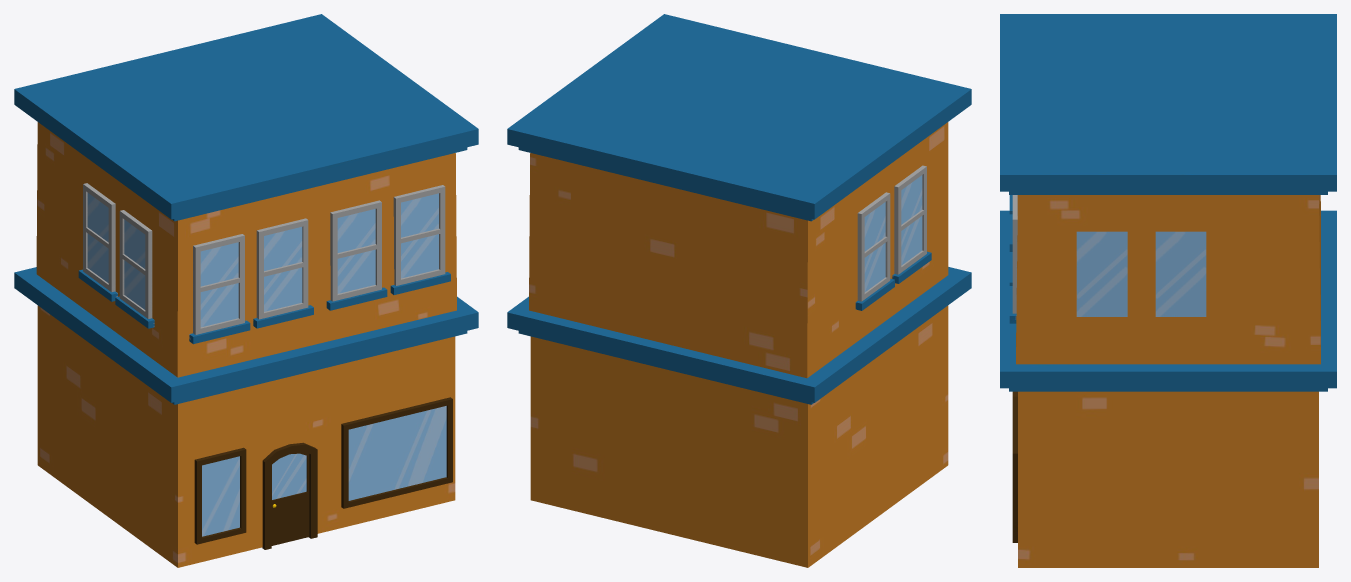
File: Building 1.fbx
3 renders of one model, left to right at view 1: azimuth 30°, elevation 25°; view 2: azimuth 150°, elevation 25°; view 3: azimuth 270°, elevation 25°, orthographic. The views are drawn at different scales.
Visible parts, largest first — view 1: polySurface5; view 2: polySurface5; view 3: polySurface5.
Boxes of the visible parts, box(x1,y1,x2,y2) form: polySurface5: box(14, 14, 478, 567); polySurface5: box(507, 14, 971, 567); polySurface5: box(1000, 14, 1336, 567).
Size of the model in its own units: 164 by 191 by 145.
1 material, 1 textured.
